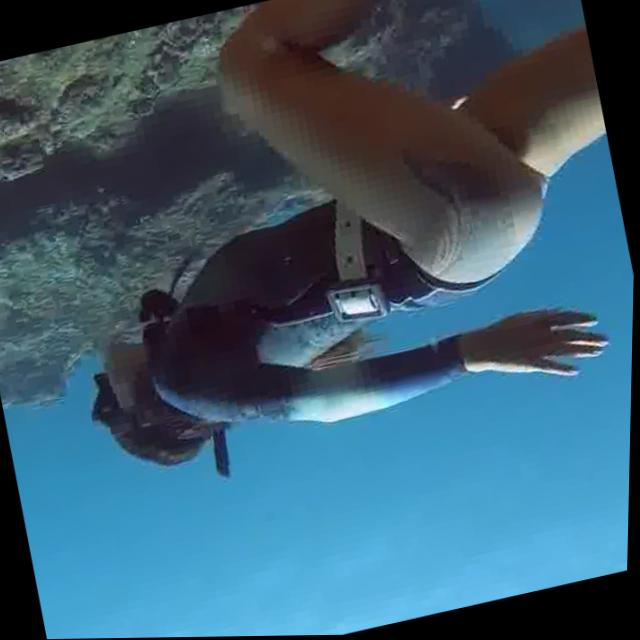human: (3, 0, 640, 540)
